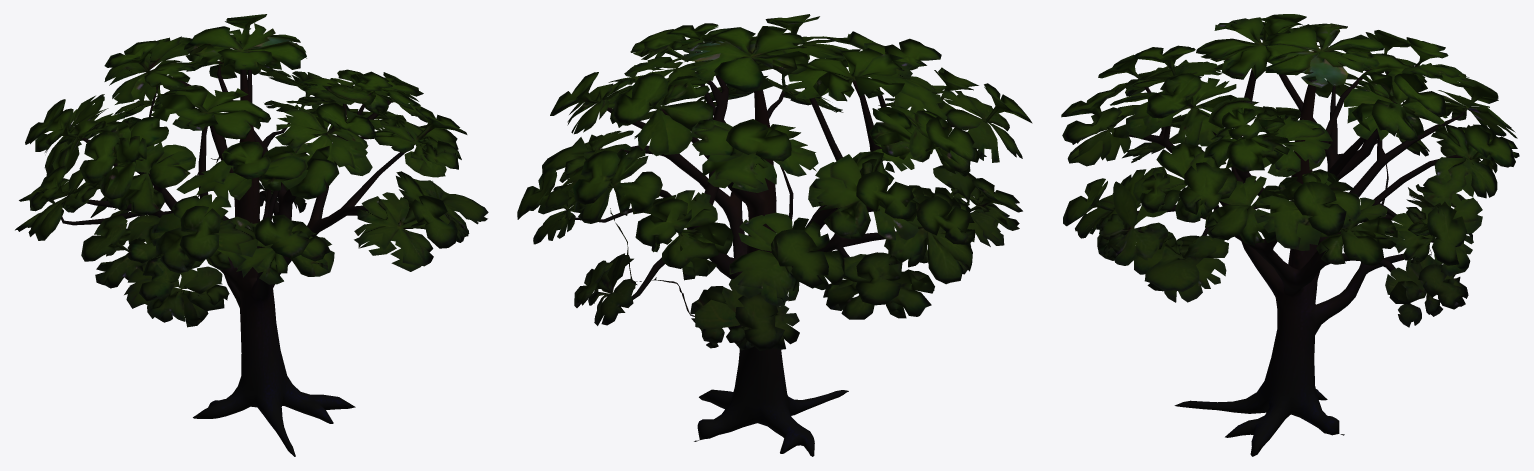
The model's file is vegetation.rain-tree-01.lod0.glb.
3 renders of one model, left to right at view 1: azimuth 30°, elevation 25°; view 2: azimuth 150°, elevation 25°; view 3: azimuth 270°, elevation 25°, orthographic. The views are drawn at different scales.
Visible parts, largest first — view 1: vegetation.rain-tree-01_LOD0_00; view 2: vegetation.rain-tree-01_LOD0_00; view 3: vegetation.rain-tree-01_LOD0_00.
Boxes of the visible parts, x1,y1,x2,y2 form: vegetation.rain-tree-01_LOD0_00: [15, 14, 488, 456]; vegetation.rain-tree-01_LOD0_00: [517, 14, 1032, 456]; vegetation.rain-tree-01_LOD0_00: [1061, 14, 1519, 456].
Size of the model in its own units: 8.83 by 8 by 8.83.
1 material, 1 textured.
